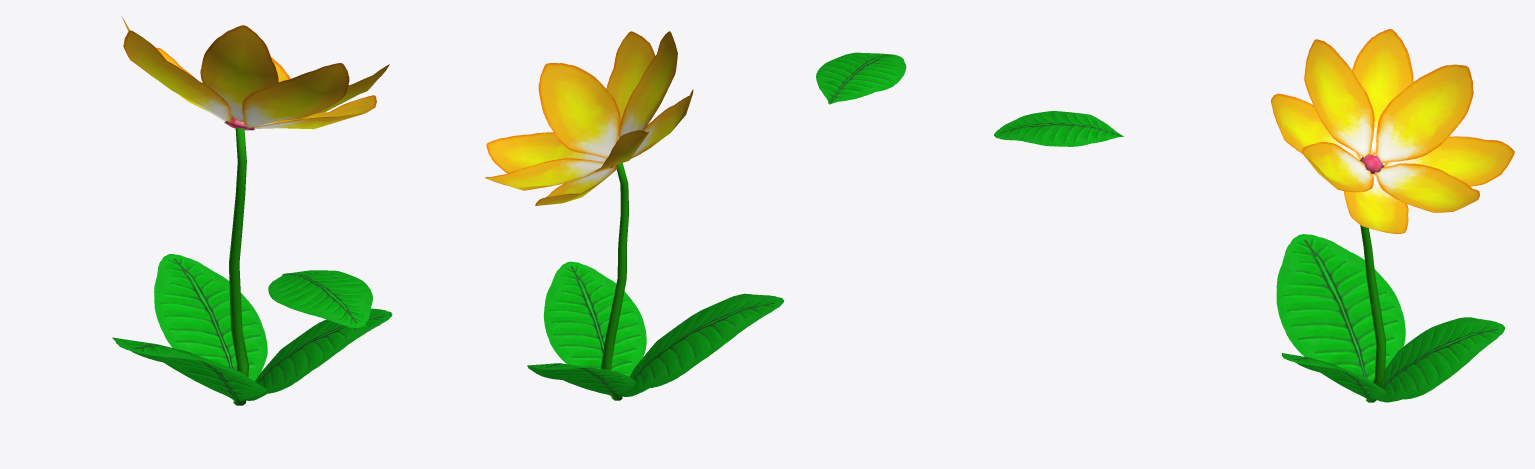
File: OrangeFlower2.fbx
3 views of the same model, side by side, from view 1: azimuth 30°, elevation 25°; view 2: azimuth 150°, elevation 25°; view 3: azimuth 270°, elevation 25° (orthographic). The views are drawn at different scales.
Visible parts, largest first — view 1: Plane.002, Plane; view 2: Plane.002, Plane; view 3: Plane.002, Plane.
Part boxes in pixels (box(x1,y1,x2,y2)): Plane.002: box(112, 16, 392, 405); Plane: box(268, 270, 372, 327); Plane.002: box(485, 31, 784, 400); Plane: box(816, 52, 906, 104); Plane.002: box(1271, 29, 1514, 402); Plane: box(994, 111, 1123, 146).
Bounding box in the file's own units: 542 × 595 × 771.
